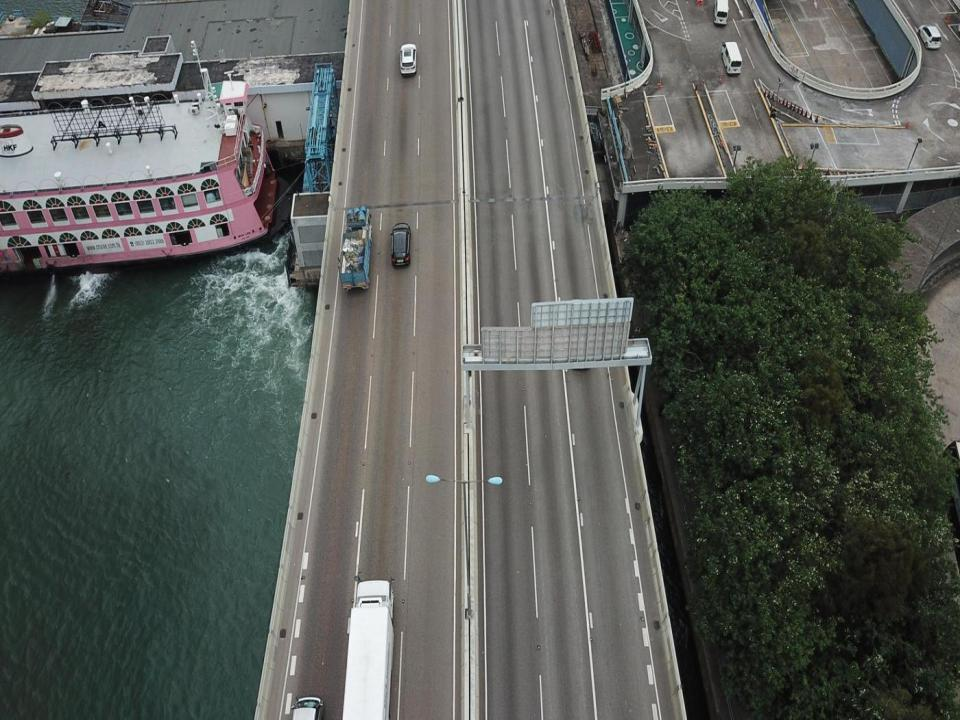car: (389, 219, 413, 269), (918, 21, 944, 49)
truck: (338, 568, 398, 719), (337, 205, 374, 293)
van: (720, 38, 743, 78), (290, 695, 325, 719), (398, 41, 419, 77), (711, 0, 731, 27)
